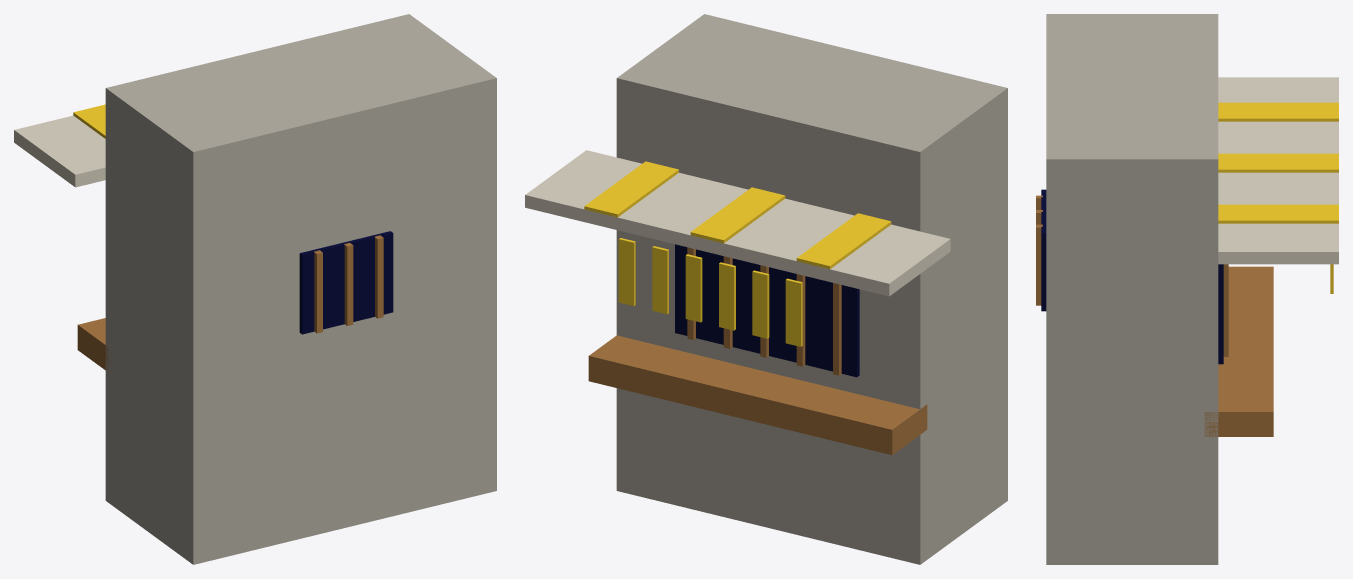
The model's file is env_sari_sari_store.obj.
3 views of the same model, side by side, from view 1: azimuth 30°, elevation 25°; view 2: azimuth 150°, elevation 25°; view 3: azimuth 270°, elevation 25° (orthographic).
Parts seen in each view (by area): view 1: SariSariStore; view 2: SariSariStore; view 3: SariSariStore.
Part boxes in pixels (<box>): SariSariStore: <box>14,14,496,564</box>; SariSariStore: <box>525,14,1007,564</box>; SariSariStore: <box>1036,14,1338,564</box>.
Size of the model in its own units: 2.4 by 2.6 by 1.76.
